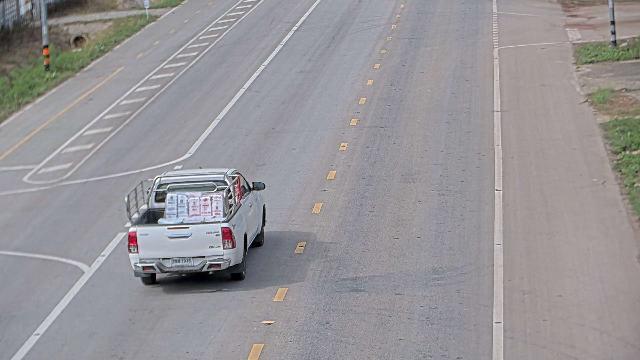pickup-truck: (123, 166, 267, 285)
